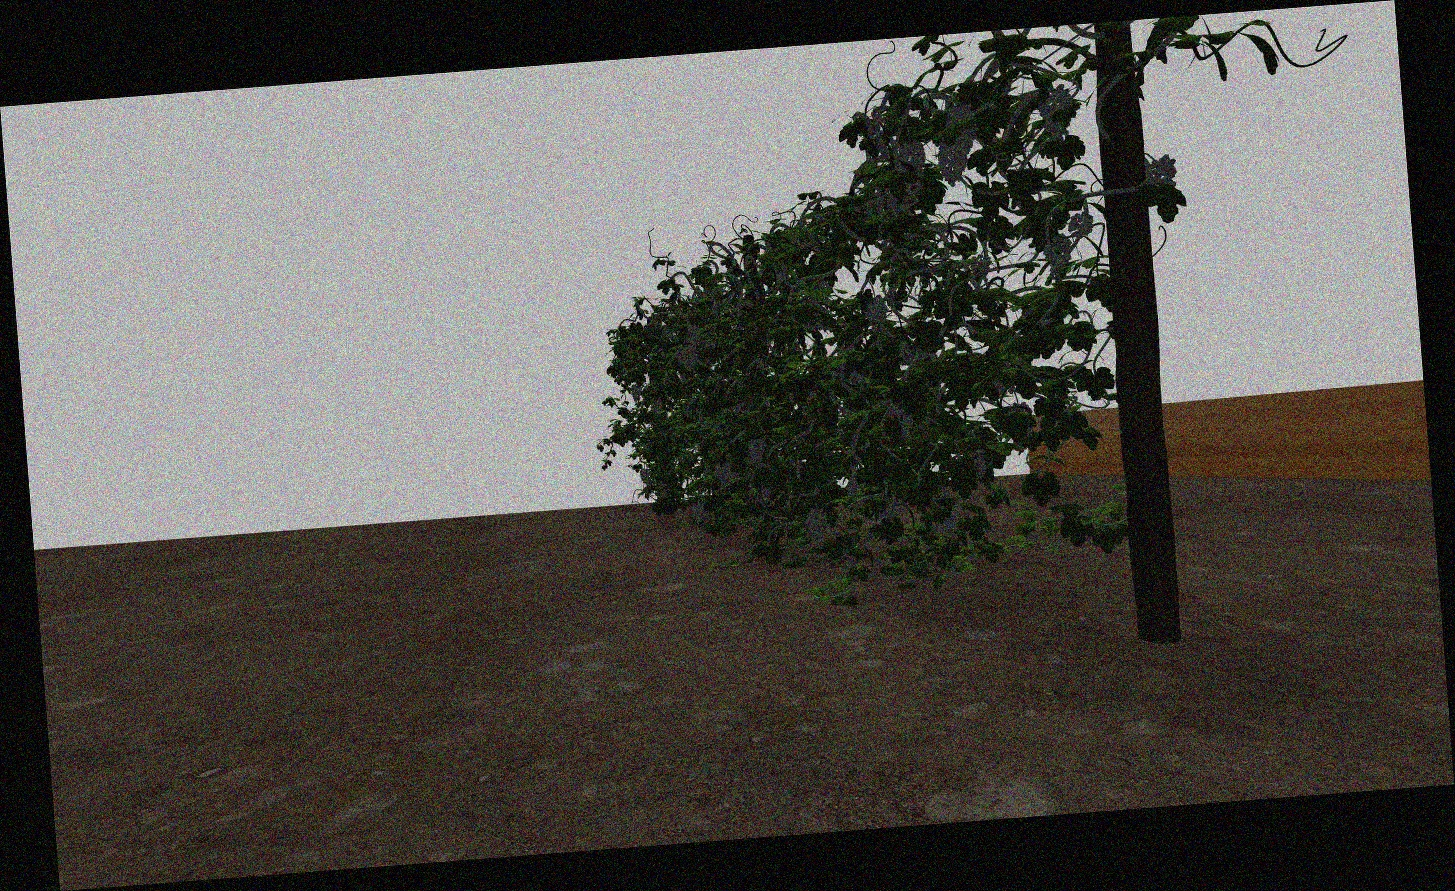grape: (1042, 83, 1074, 142), (945, 103, 979, 155), (935, 141, 968, 188), (896, 139, 926, 176), (1149, 152, 1179, 187), (1044, 235, 1073, 269), (806, 507, 829, 547), (1066, 211, 1095, 240), (865, 294, 889, 327), (846, 470, 866, 508), (879, 496, 903, 522), (940, 508, 959, 539), (746, 437, 766, 463), (713, 458, 731, 487), (681, 347, 699, 373), (972, 455, 988, 481), (690, 503, 706, 525), (629, 383, 643, 403), (650, 397, 663, 418), (656, 480, 669, 499), (639, 468, 651, 484)
